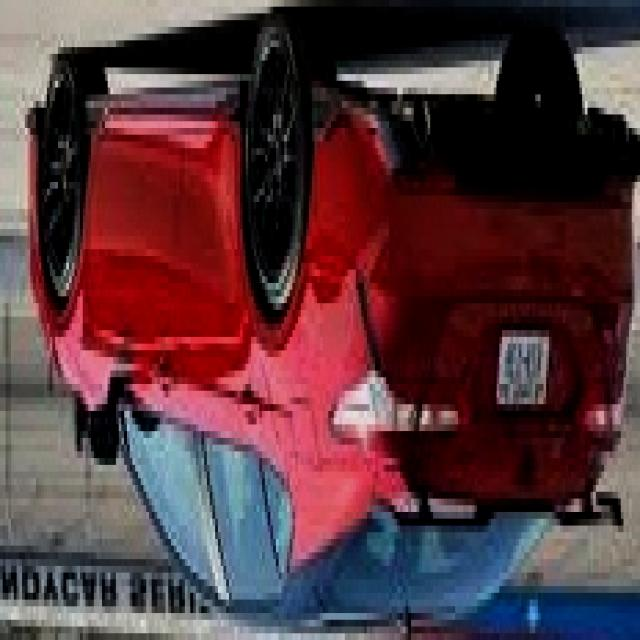red: (25, 45, 640, 631)
